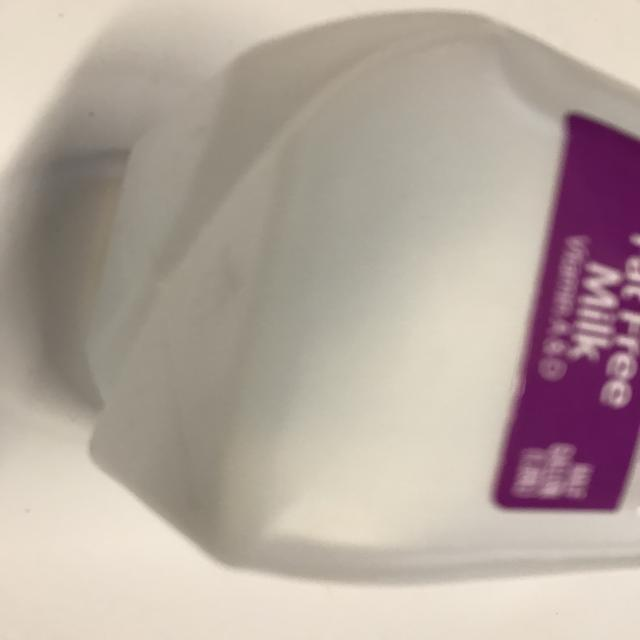plastic: (63, 9, 640, 581)
